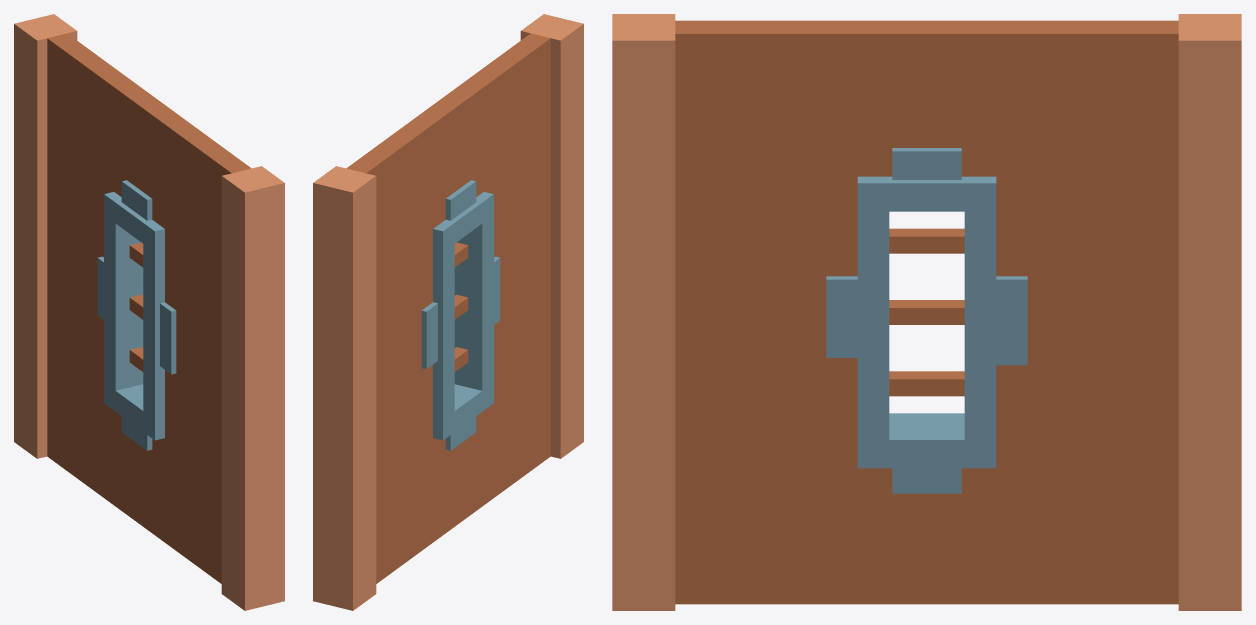
The model's file is wallWoodWindowStone.dae.
3 renders of one model, left to right at view 1: azimuth 30°, elevation 25°; view 2: azimuth 150°, elevation 25°; view 3: azimuth 270°, elevation 25°, orthographic. The views are drawn at different scales.
Parts seen in each view (by area): view 1: wallWoodWindowStone; view 2: wallWoodWindowStone; view 3: wallWoodWindowStone.
Part boxes in pixels (bbox=[...]): wallWoodWindowStone: bbox=[14, 14, 284, 610]; wallWoodWindowStone: bbox=[313, 14, 583, 610]; wallWoodWindowStone: bbox=[612, 14, 1241, 610].
Size of the model in its own units: 0.1 by 1 by 1.
